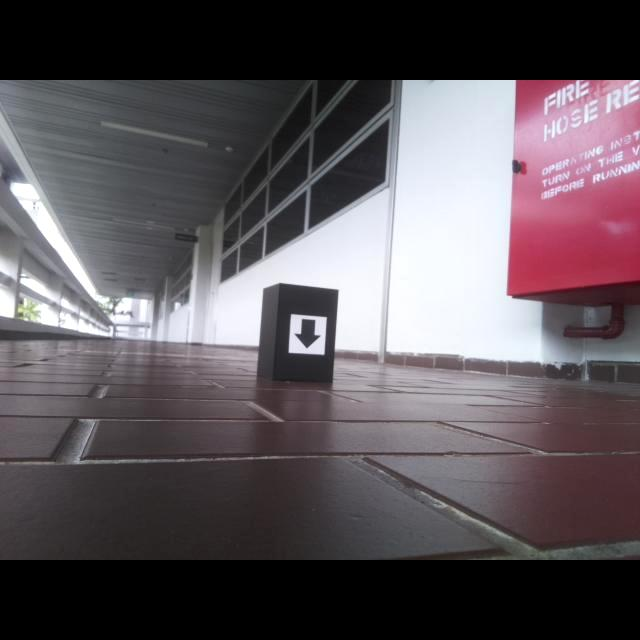DOWN: (291, 317, 322, 351)
